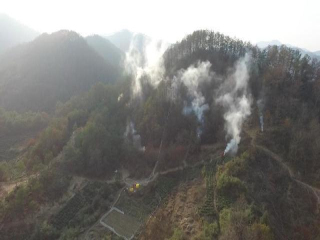smoke: (118, 32, 268, 159)
